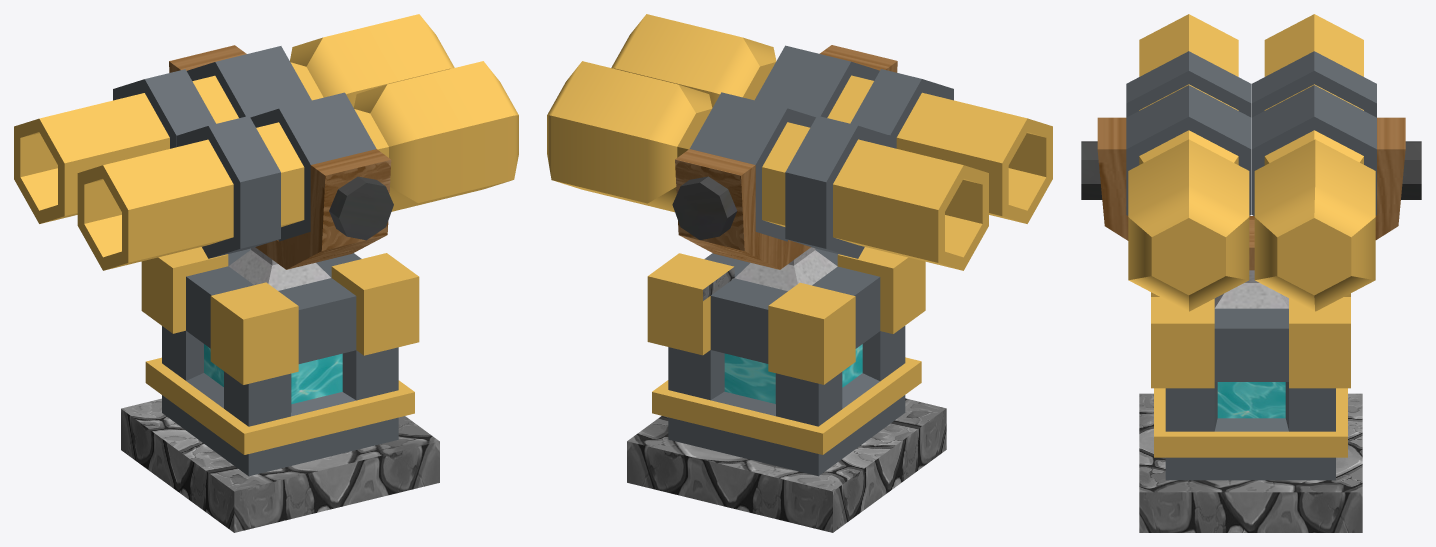
File: sung 2.fbx
The picture shows the model from 3 angles, left to right: view 1: azimuth 30°, elevation 25°; view 2: azimuth 150°, elevation 25°; view 3: azimuth 270°, elevation 25°; orthographic projection.
Parts seen in each view (by area): view 1: sung_2, than_sung_2, pCylinder15; view 2: sung_2, than_sung_2, pCylinder15; view 3: sung_2, than_sung_2, pCylinder15.
Part boxes in pixels (bbox=[...]): sung_2: bbox=[14, 14, 518, 270]; than_sung_2: bbox=[121, 247, 439, 532]; pCylinder15: bbox=[329, 176, 393, 240]; sung_2: bbox=[547, 14, 1052, 270]; than_sung_2: bbox=[627, 247, 946, 532]; pCylinder15: bbox=[672, 176, 736, 240]; sung_2: bbox=[1097, 14, 1405, 311]; than_sung_2: bbox=[1139, 270, 1362, 532]; pCylinder15: bbox=[1081, 141, 1421, 199].
Bounding box in the file's own units: 7.87 × 7.36 × 5.93.
1 material, 1 textured.
